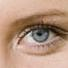eye: (33, 29, 49, 42)
